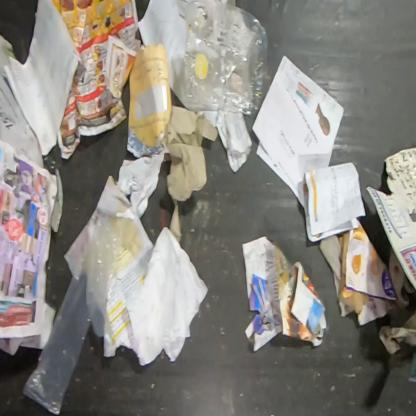rigid_plastic: (180, 0, 269, 116)
soft_plastic: (22, 214, 132, 415)
